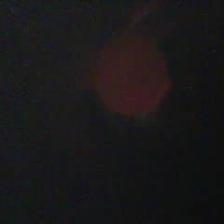fertile: (84, 32, 174, 121)
